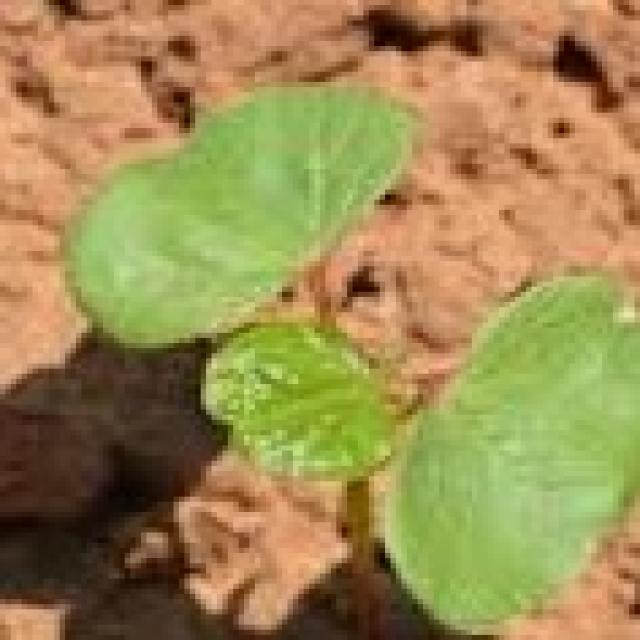Healthy Leaf: (32, 56, 640, 639)
